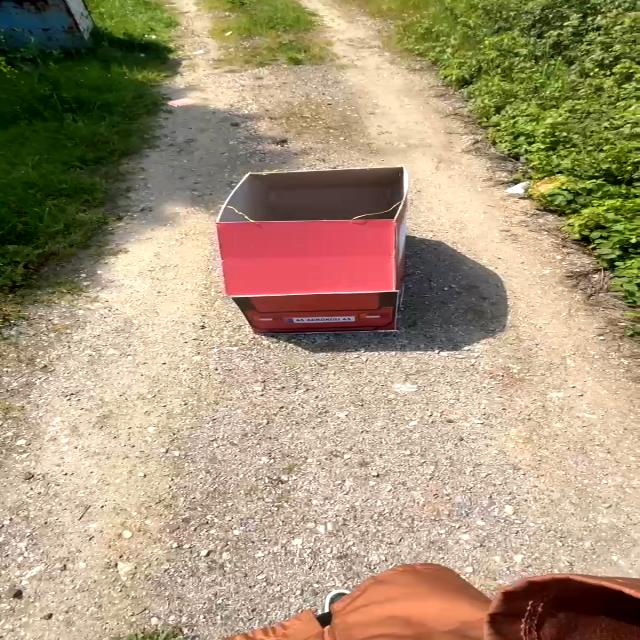red_car: (198, 162, 410, 350)
